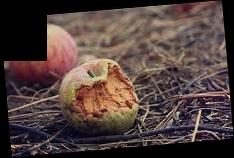rotten apple: (59, 57, 147, 136)
